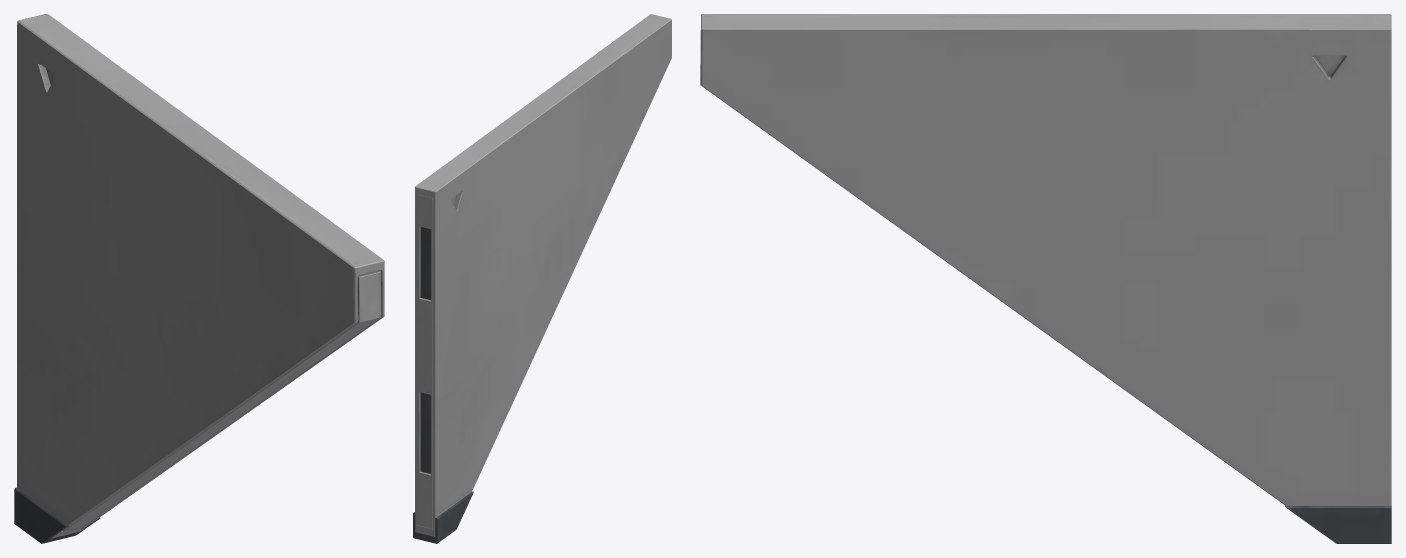
Rendered from SM_WallTryangleReverse_SF_d0d32c.glb.
The picture shows the model from 3 angles, left to right: view 1: azimuth 30°, elevation 25°; view 2: azimuth 150°, elevation 25°; view 3: azimuth 270°, elevation 25°; orthographic projection. The views are drawn at different scales.
Bounding box in the file's own units: 0.2402 × 3.29 × 4.
1 material, 1 textured.
